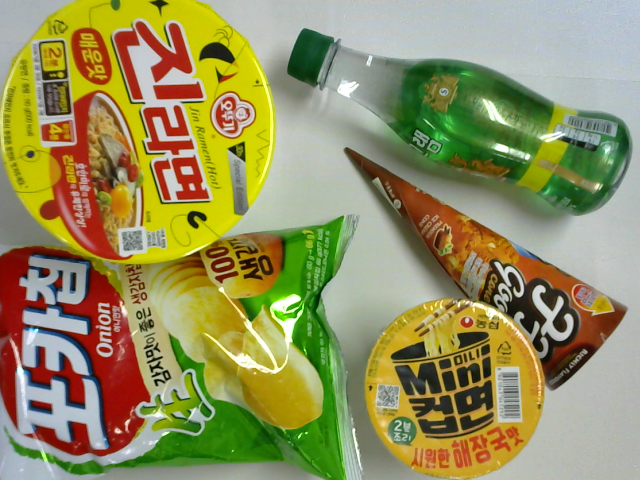GooGoo_Cone_CVS: (344, 141, 630, 396)
Hejangmini: (363, 299, 553, 480)
Jinlamyeon_Hot_Taste_Large_Cup: (1, 1, 271, 264)
Pocachip_Onion: (1, 212, 357, 480)
Seagram_Lemon_Carbonated_Water: (285, 28, 633, 220)
